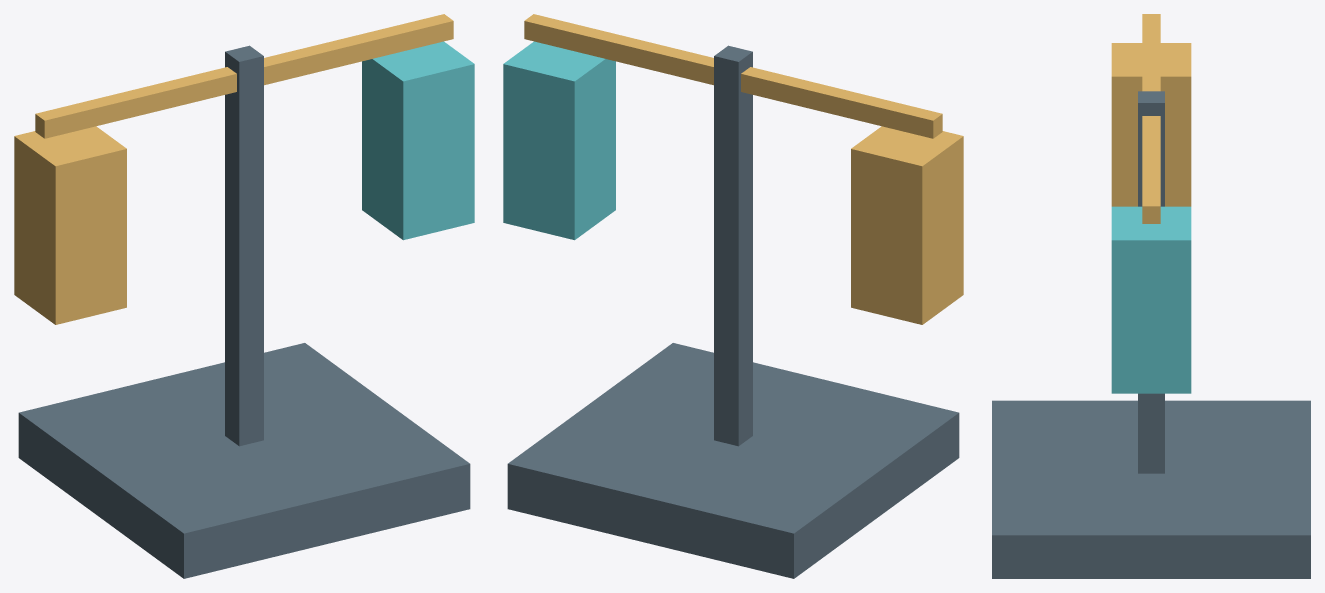
The model's file is mobile.gltf.
3 renders of one model, left to right at view 1: azimuth 30°, elevation 25°; view 2: azimuth 150°, elevation 25°; view 3: azimuth 270°, elevation 25°, orthographic. The views are drawn at different scales.
Visible parts, largest first — view 1: Base, Left, Right, Column, Arm; view 2: Base, Left, Right, Column, Arm; view 3: Base, Right, Left, Column, Arm.
Boxes of the visible parts, left/top/right/bottom form: Base: left=18, top=343, right=470, bottom=578; Left: left=14, top=126, right=126, bottom=324; Right: left=362, top=41, right=474, bottom=240; Column: left=225, top=45, right=263, bottom=446; Arm: left=35, top=14, right=453, bottom=138; Base: left=507, top=343, right=959, bottom=578; Left: left=851, top=126, right=963, bottom=324; Right: left=503, top=41, right=615, bottom=240; Column: left=714, top=45, right=752, bottom=446; Arm: left=524, top=14, right=942, bottom=138; Base: left=992, top=400, right=1310, bottom=578; Right: left=1111, top=206, right=1191, bottom=393; Left: left=1111, top=43, right=1191, bottom=206; Column: left=1138, top=91, right=1164, bottom=473; Arm: left=1142, top=14, right=1160, bottom=223.
Size of the model in its own units: 2.05 by 2.01 by 1.4.
